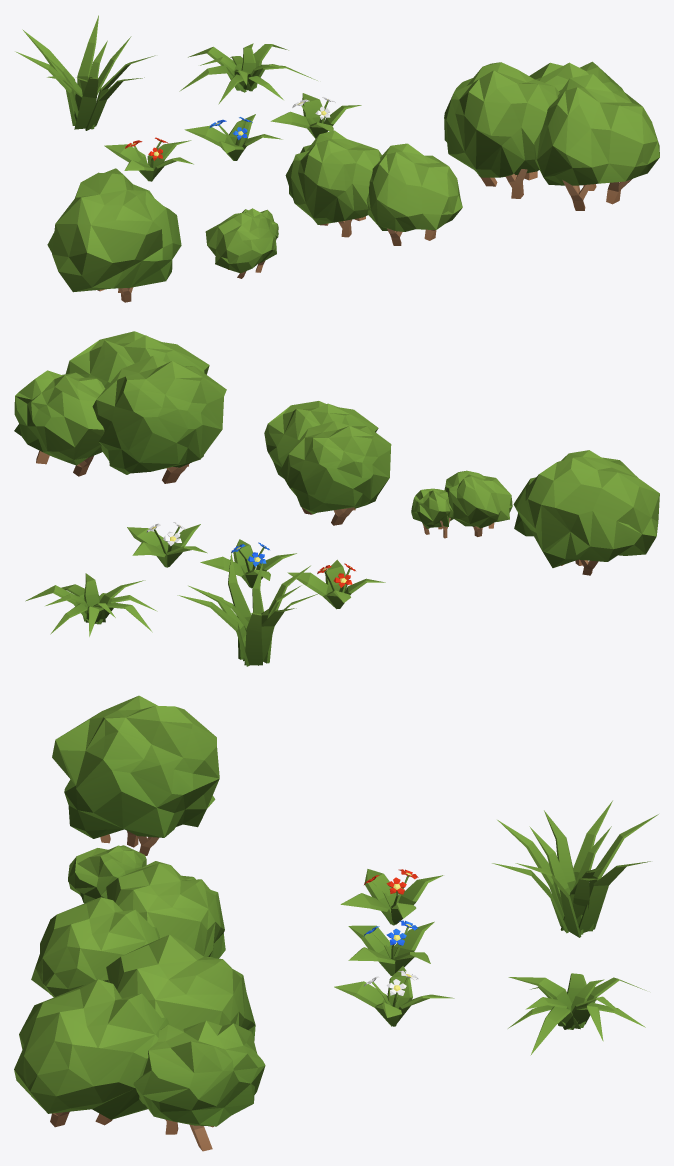
Rendered from New_Vebs.fbx.
3 views of the same model, one above another, from view 1: azimuth 30°, elevation 25°; view 2: azimuth 150°, elevation 25°; view 3: azimuth 270°, elevation 25° (orthographic). The views are drawn at different scales.
Visible parts, largest first — view 1: Bush_group_big, Bush_group_average, Bush_average, Grass_bush_high_01, Bush_group_small, Grass_bush_low_01, Flower_bush_white, Flower_bush_red, Flower_bush_blue; view 2: Bush_group_big, Bush_average, Bush_group_average, Bush_group_small, Grass_bush_high_01, Grass_bush_low_01, Flower_bush_white, Flower_bush_red, Flower_bush_blue; view 3: Bush_group_big, Bush_average, Bush_group_average, Grass_bush_high_01, Grass_bush_low_01, Bush_group_small, Flower_bush_blue, Flower_bush_red, Flower_bush_white.
Boxes of the visible parts, <box> form: Bush_group_big: <box>444,61,659,210</box>; Bush_group_average: <box>285,130,462,245</box>; Bush_average: <box>47,168,181,302</box>; Grass_bush_high_01: <box>15,15,155,130</box>; Bush_group_small: <box>205,208,278,278</box>; Grass_bush_low_01: <box>179,43,317,104</box>; Flower_bush_white: <box>270,93,361,138</box>; Flower_bush_red: <box>104,137,193,181</box>; Flower_bush_blue: <box>184,114,282,160</box>; Bush_group_big: <box>14,331,226,483</box>; Bush_average: <box>513,450,659,575</box>; Bush_group_average: <box>264,401,391,525</box>; Bush_group_small: <box>411,470,512,538</box>; Grass_bush_high_01: <box>177,553,320,666</box>; Grass_bush_low_01: <box>25,573,157,636</box>; Flower_bush_white: <box>127,522,207,567</box>; Flower_bush_red: <box>287,559,385,609</box>; Flower_bush_blue: <box>200,539,296,588</box>; Bush_group_big: <box>14,934,265,1151</box>; Bush_average: <box>52,695,219,855</box>; Bush_group_average: <box>31,861,225,997</box>; Grass_bush_high_01: <box>492,800,658,937</box>; Grass_bush_low_01: <box>508,973,646,1055</box>; Bush_group_small: <box>68,845,146,903</box>; Flower_bush_blue: <box>348,920,434,975</box>; Flower_bush_red: <box>340,869,443,925</box>; Flower_bush_white: <box>334,966,454,1026</box>.
Bounding box in the file's own units: 969 × 181 × 734.
Materials: 1 (1 with a texture image).
